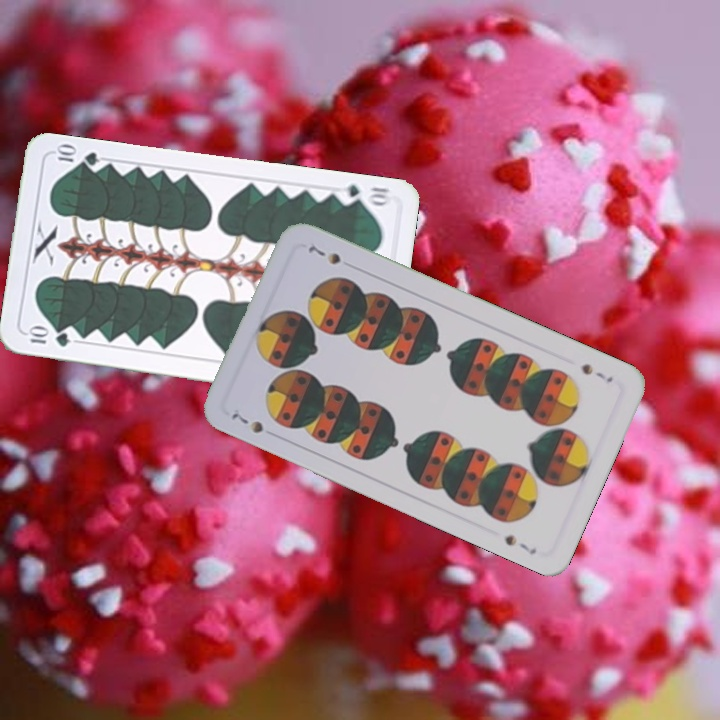G10: (334, 180, 394, 209), (25, 325, 73, 349)
S7: (227, 408, 267, 436), (577, 359, 616, 385)
